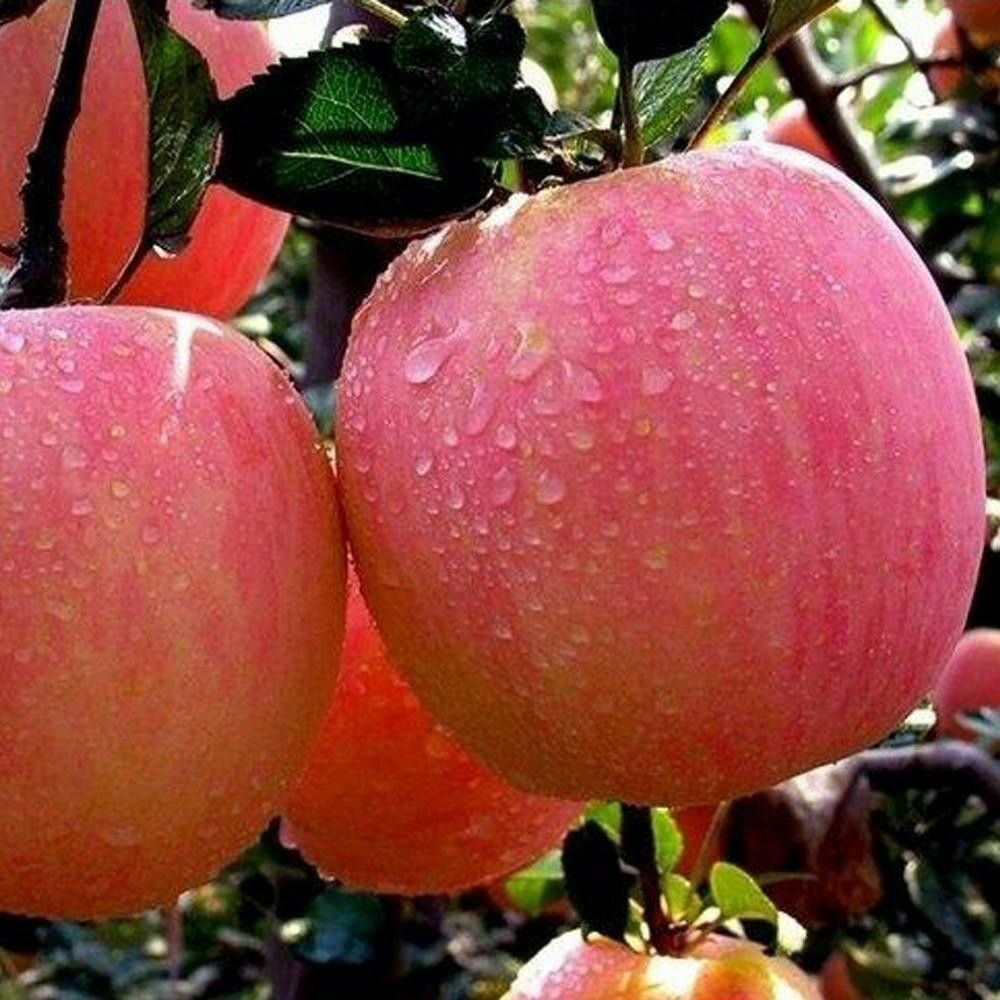fresh_apple: (340, 142, 982, 810), (5, 308, 346, 924)
